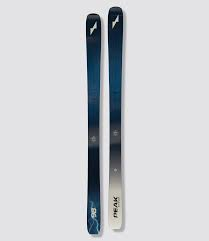skis: (84, 7, 126, 236)
